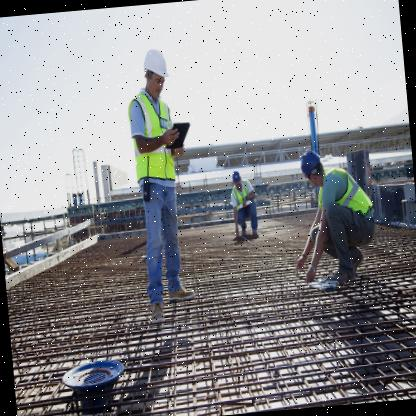capacete: (141, 46, 172, 102), (297, 141, 328, 190), (232, 170, 244, 191)
colete_refletivo: (125, 88, 179, 183), (314, 162, 374, 214), (230, 178, 257, 208)
